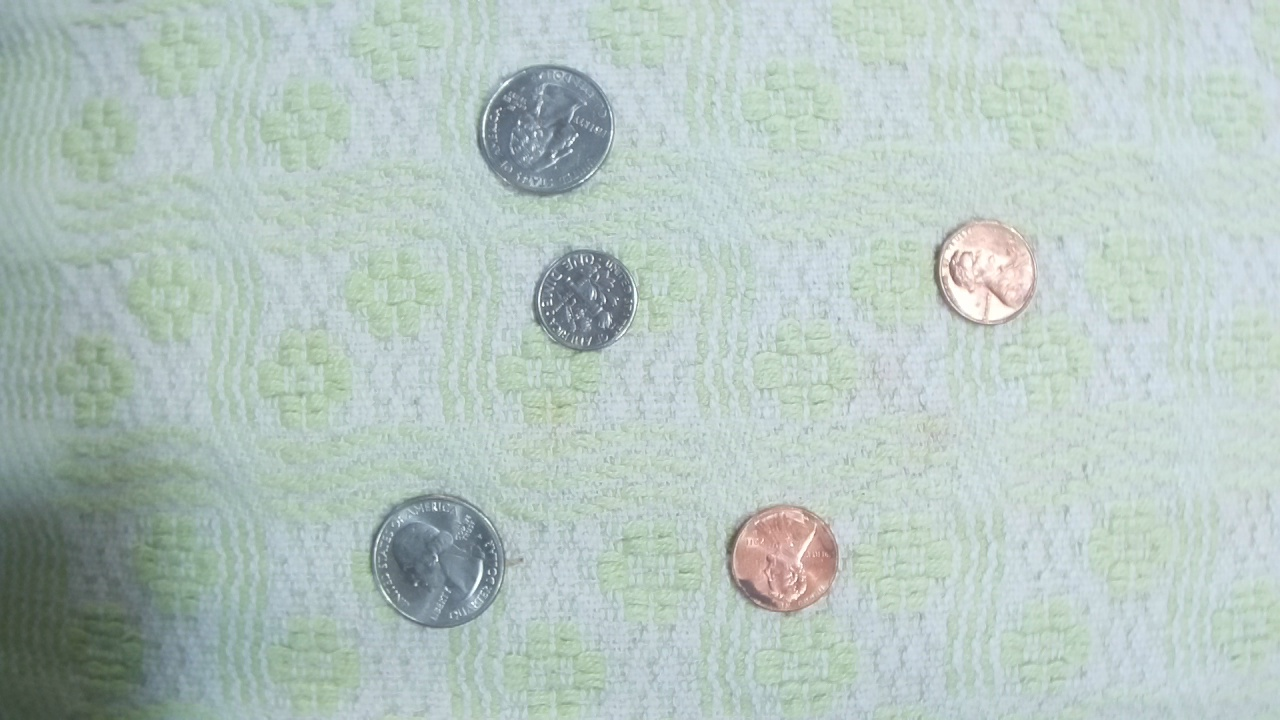dime: (532, 248, 638, 352)
penny: (724, 502, 842, 614), (934, 214, 1040, 328)
quarter: (368, 488, 504, 630), (474, 62, 616, 196)
